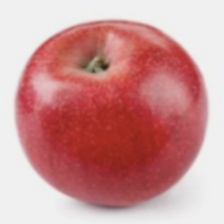apple: (30, 11, 173, 180)
